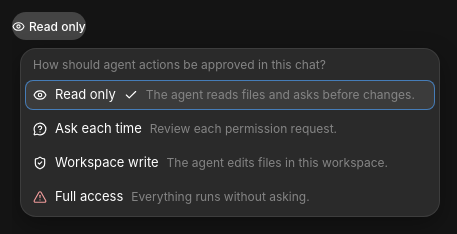
Scenario: lets a new chat choose its access before the first message
This screenshot has width=457, height=234.
expect the button with aria-label "Access options" reads "Read only": met, box [12,12,86,40]
What coordinates should you click on to do the following:
click the menu item "Ask each time"
I would click on:
 (230, 129)
Its box is [25,114,435,144].
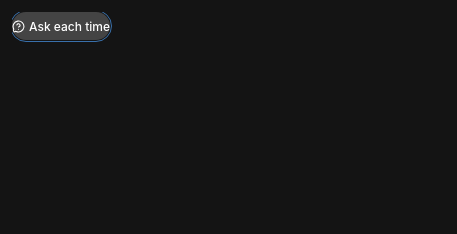
expect the button with aria-label "Access options" reads "Ask each time": met, box [12,12,110,40]
